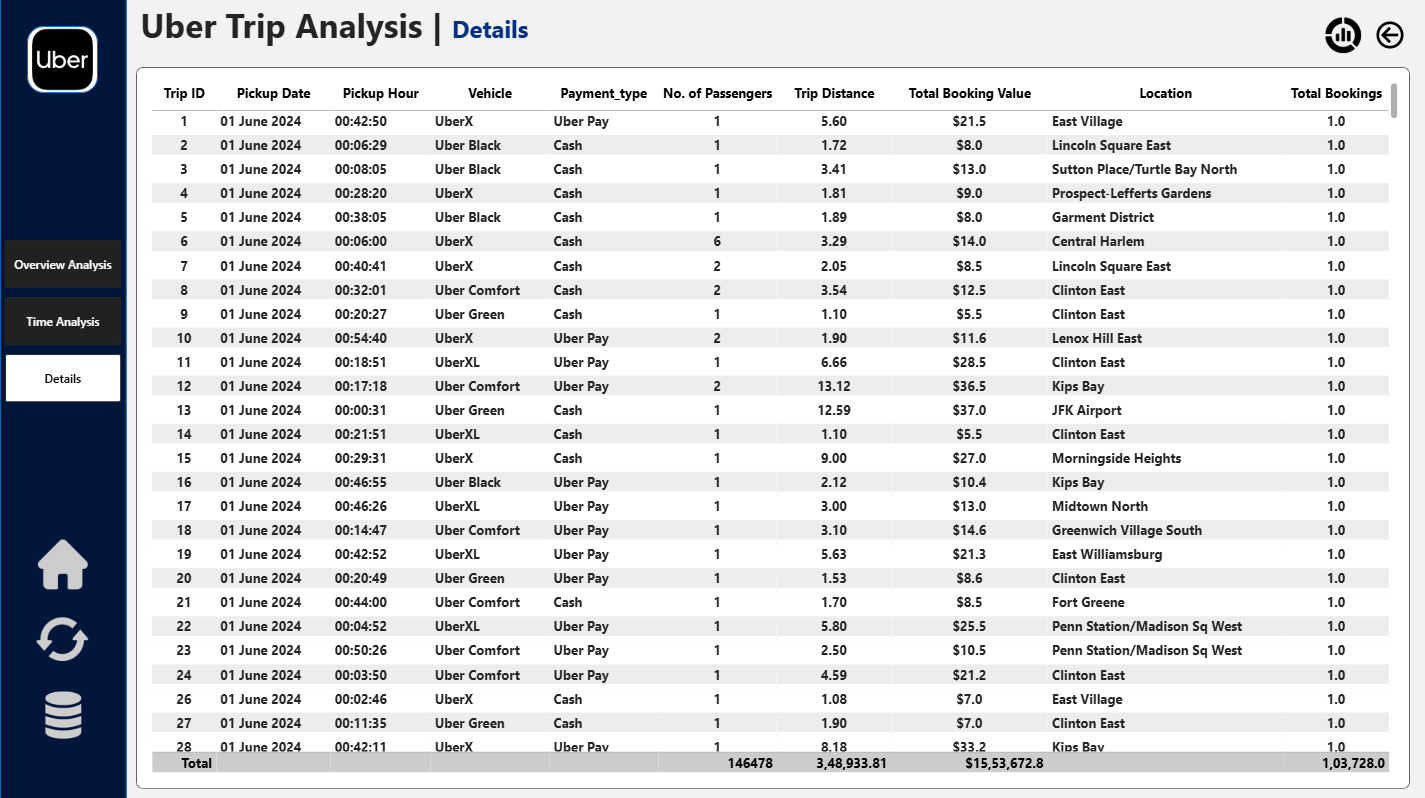

Layout of this report page (visuals, bound fields, positions):
{"tool":"powerbi","page":{"name":"Details","canvas":[1600,900],"ordinal":2},"visuals":[{"type":"shape","box":[0,0,142,900],"z":0},{"type":"textbox","box":[152.6,0,648.6,61.7],"z":1000},{"type":"shape","box":[152.6,77.4,1429.7,810.2],"z":2000},{"type":"tableEx","fields":{"Values":["Trip Details.Trip ID","Trip Details.Pickup Date","Trip Details.Pickup Hour (HH MM SS)","Trip Details.Vehicle","Trip Details.Payment_type","Sum(Trip Details.passenger_count)","Trip Details.Total Trip Distance Measure","Trip Details.Total Booking Value","Location Table.Location","Trip Details.Total Bookings"]},"box":[165,89.8,1409.5,784.4],"z":3000},{"type":"actionButton","box":[1539.7,21.3,42.6,40.4],"z":4000},{"type":"image","box":[1482.3,17,49.8,49.8],"z":5000},{"type":"pageNavigator","box":[5.6,271.6,130.2,184],"z":6000},{"type":"shape","box":[30.3,31.4,79.7,75.2],"z":7000},{"type":"image","box":[10.1,13.5,120.1,111.1],"z":8000},{"type":"image","box":[32.5,602.6,76.3,66.2],"z":8001},{"type":"image","box":[35.9,684.5,68.5,70.7],"z":8002},{"type":"image","box":[32.5,773.2,77.4,62.8],"z":8003}]}

Visuals, with their boxes on the page's 1600x900 design canvas (x1, y1, x2, y2). These are canvas units, not pixel positions in the 1425x798 screenshot, which may show the page scaled, cropped or inside an application window:
shape: [0,0,142,900]
textbox: [153,0,801,62]
shape: [153,77,1582,888]
tableEx - Trip Details.Trip ID x Trip Details.Pickup Date: [165,90,1574,874]
actionButton: [1540,21,1582,62]
image: [1482,17,1532,67]
pageNavigator: [6,272,136,456]
shape: [30,31,110,107]
image: [10,14,130,125]
image: [32,603,109,669]
image: [36,684,104,755]
image: [32,773,110,836]
